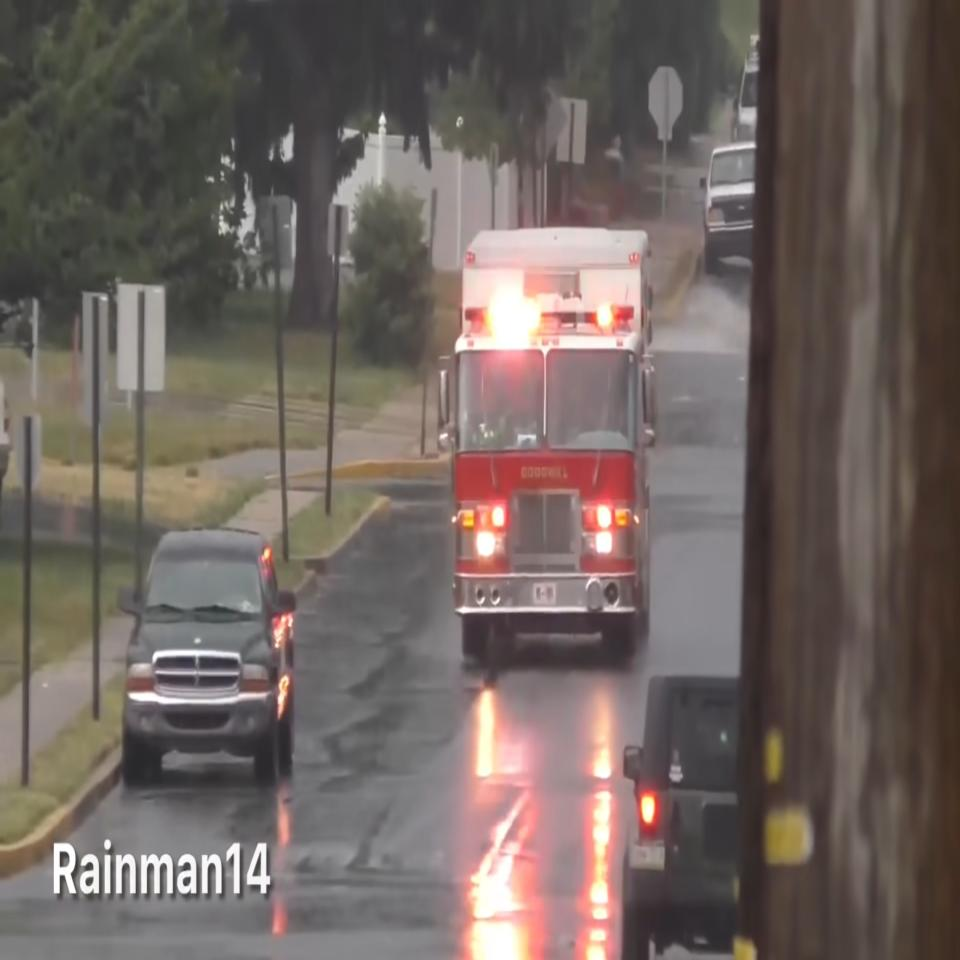viatura: (436, 222, 660, 663)
